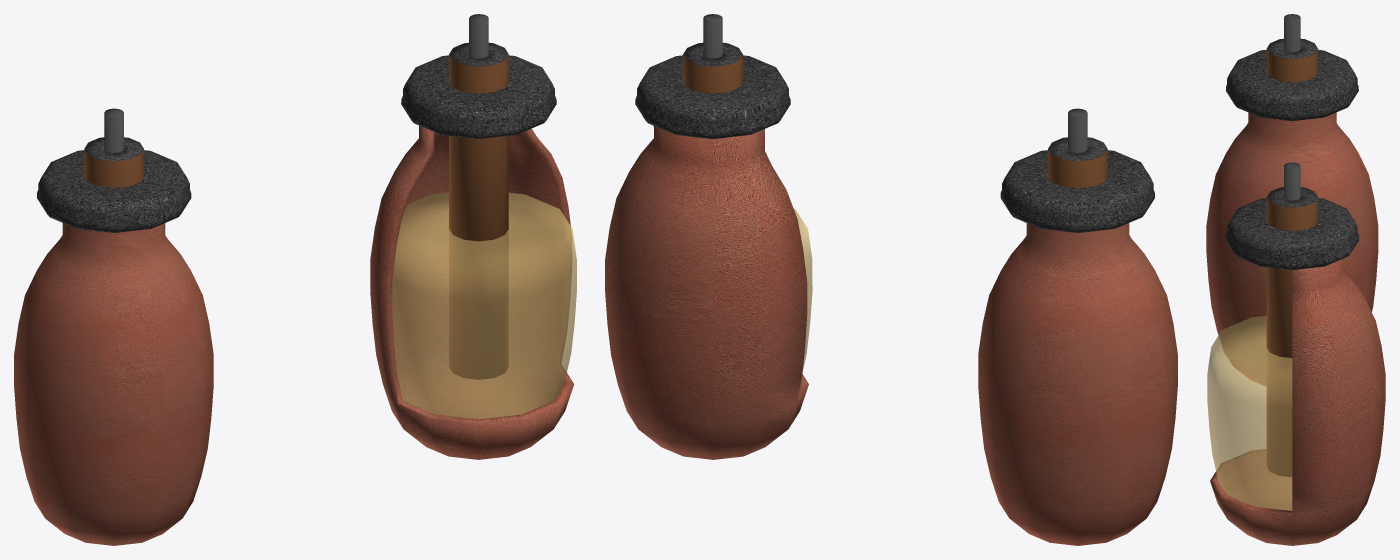
Rendered from TheBaghdadBattery.glb.
The picture shows the model from 3 angles, left to right: view 1: azimuth 30°, elevation 25°; view 2: azimuth 150°, elevation 25°; view 3: azimuth 270°, elevation 25°; orthographic projection. The views are drawn at different scales.
Visible parts, largest first — view 1: Circle, Circle.001, Circle.002, Circle.003, Circle.004; view 2: Circle.001, Circle, Circle.003, Circle.004, Circle.002; view 3: Circle.001, Circle, Circle.003, Circle.002, Circle.004.
Boxes of the visible parts, x1,y1,x2,y2 form: Circle: [14, 223, 213, 545]; Circle.001: [370, 125, 574, 459]; Circle.002: [392, 192, 576, 419]; Circle.003: [401, 14, 556, 379]; Circle.004: [37, 108, 191, 232]; Circle.001: [605, 126, 808, 459]; Circle: [978, 223, 1177, 545]; Circle.003: [635, 14, 790, 138]; Circle.004: [1000, 108, 1154, 232]; Circle.002: [793, 208, 812, 370]; Circle.001: [1210, 258, 1385, 545]; Circle: [1206, 112, 1378, 385]; Circle.003: [1225, 162, 1359, 477]; Circle.002: [1207, 315, 1292, 510]; Circle.004: [1226, 14, 1358, 120].
Bounding box in the file's own units: 13.52 × 9.88 × 4.47.
Materials: 5 (2 with a texture image).
